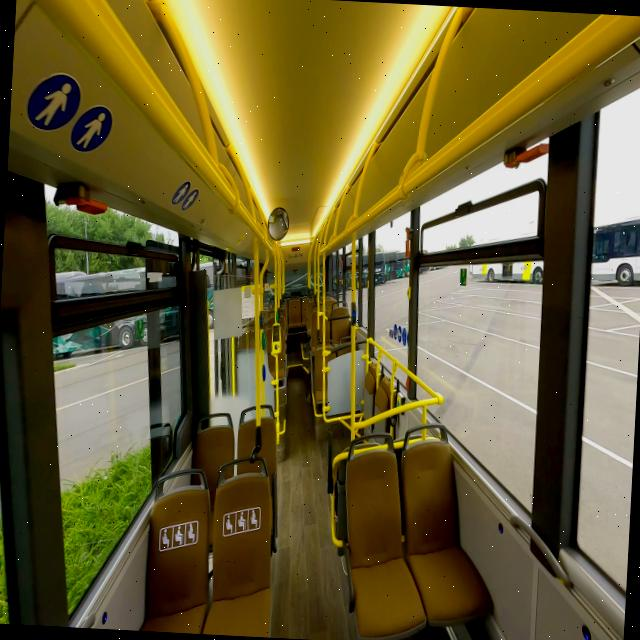empty-seat-frontal: (386, 420, 508, 634), (332, 417, 435, 640)
